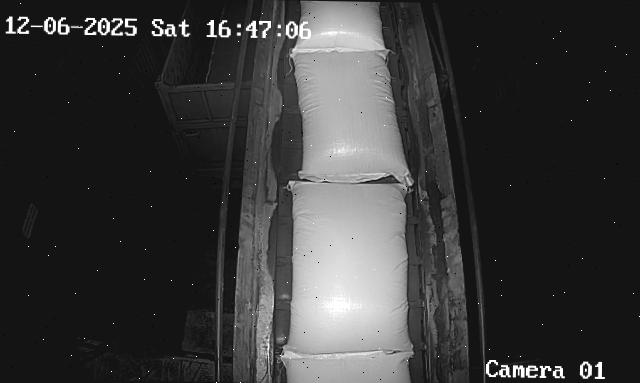bag: (284, 181, 415, 359), (290, 48, 418, 184), (295, 0, 386, 51), (281, 350, 414, 383)
